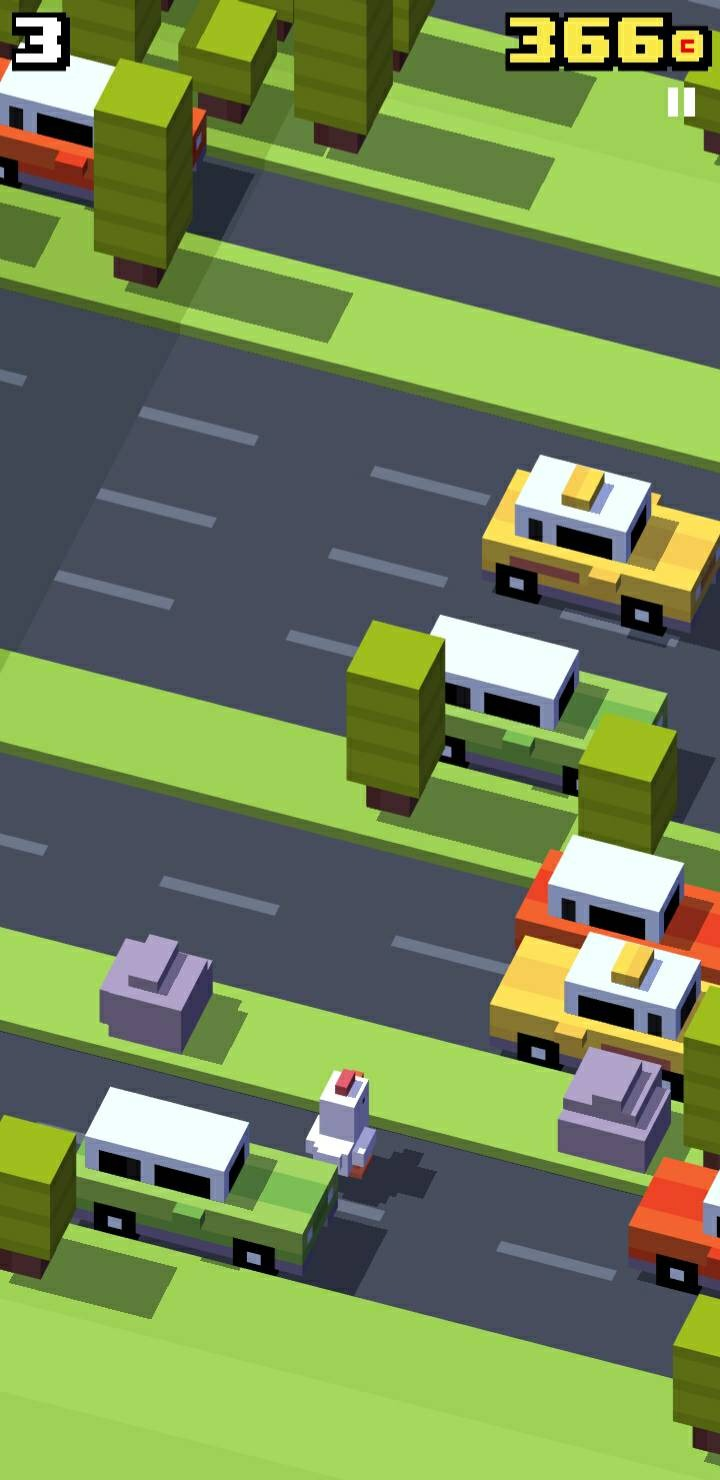car: (412, 603, 670, 816), (67, 1078, 334, 1281), (479, 441, 720, 645), (489, 930, 720, 1098), (1, 50, 210, 209), (512, 836, 720, 978), (618, 1154, 720, 1303)
rock: (94, 927, 219, 1058), (556, 1045, 674, 1174), (303, 1063, 379, 1187)
tree: (92, 59, 196, 292), (343, 614, 445, 821), (1, 1112, 87, 1290), (578, 712, 676, 867), (290, 1, 389, 150), (179, 1, 281, 114), (672, 1287, 720, 1461), (63, 1, 181, 67), (681, 36, 720, 158)
